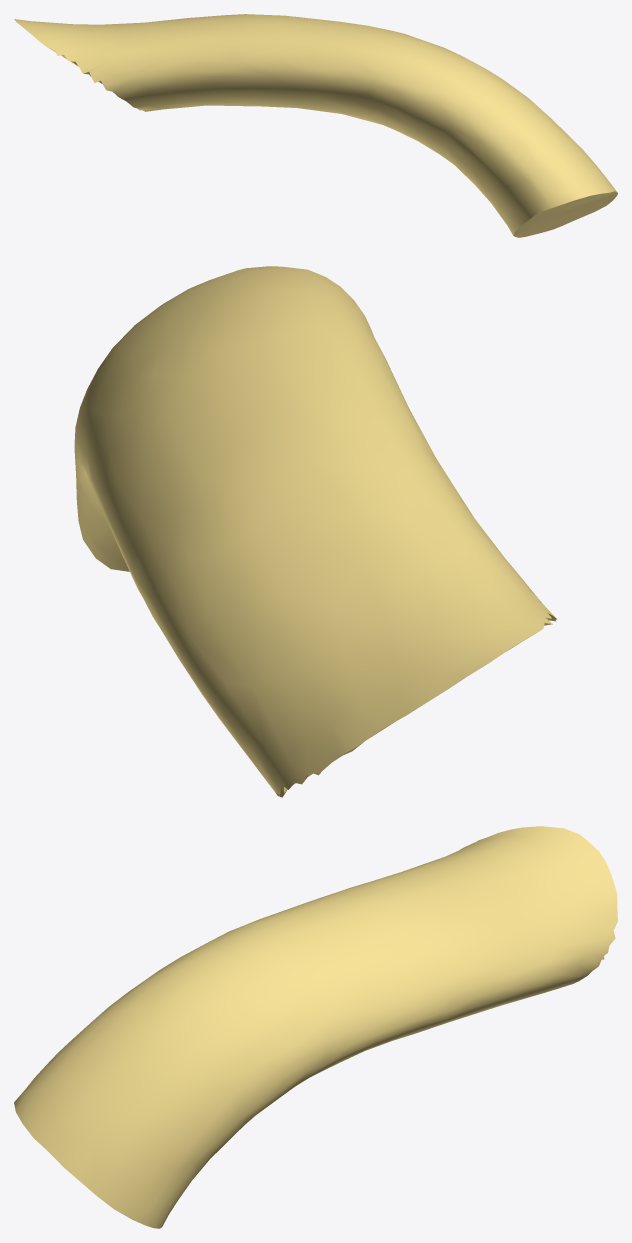
The model's file is fma73828_mm2480.glb.
3 views of the same model, one above another, from view 1: azimuth 30°, elevation 25°; view 2: azimuth 150°, elevation 25°; view 3: azimuth 270°, elevation 25° (orthographic). The views are drawn at different scales.
Parts seen in each view (by area): view 1: FMA73828_MM2480; view 2: FMA73828_MM2480; view 3: FMA73828_MM2480.
Part boxes in pixels (box(x1,y1,x2,y2)): FMA73828_MM2480: box(14, 14, 617, 237); FMA73828_MM2480: box(74, 266, 556, 797); FMA73828_MM2480: box(14, 826, 617, 1228).
Size of the model in its own units: 0.00815 by 0.00378 by 0.00932.
